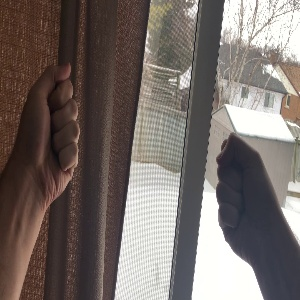hand: (214, 133, 287, 260), (16, 62, 79, 192)
